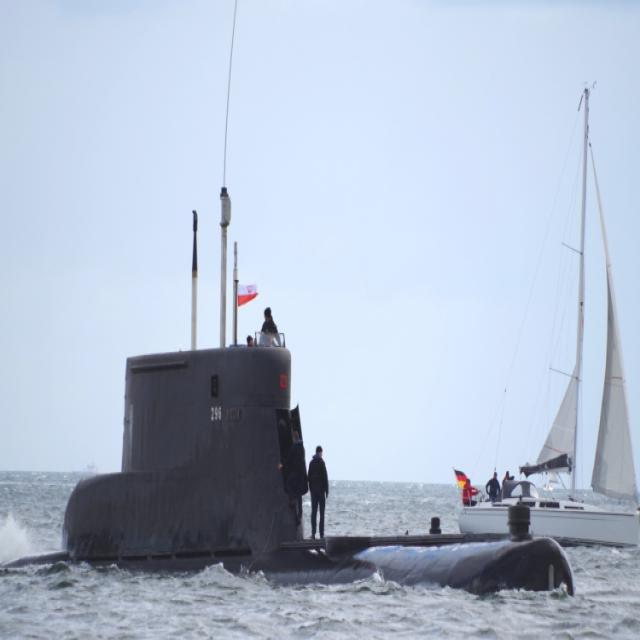submarine: (2, 342, 578, 596)
